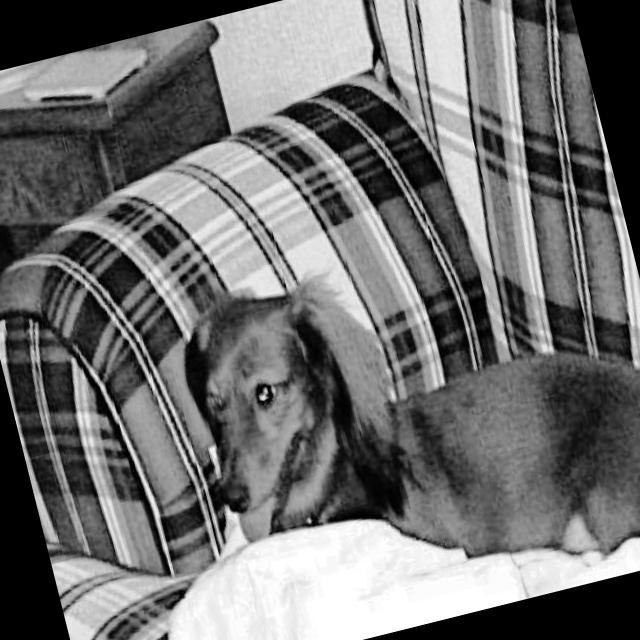Dog: (163, 185, 640, 640)
